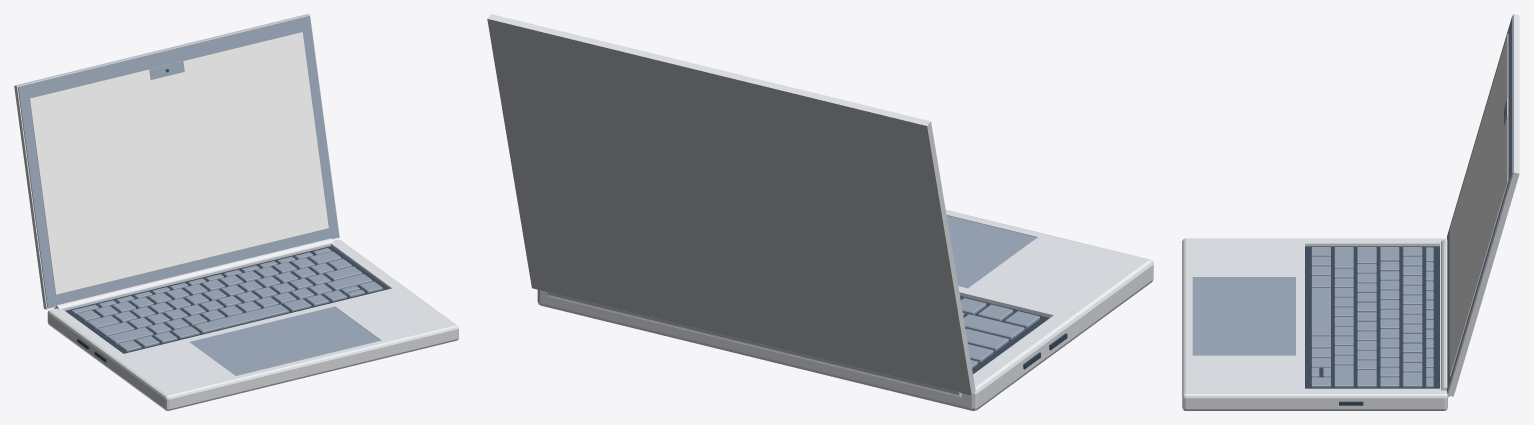
The model's file is computer.glb.
3 renders of one model, left to right at view 1: azimuth 30°, elevation 25°; view 2: azimuth 150°, elevation 25°; view 3: azimuth 270°, elevation 25°, orthographic. The views are drawn at different scales.
Visible parts, largest first — view 1: Screen, Base, Keycaps, Lid_Bezel, Trackpad, Well_Floor, Lid_Back, Hinge; view 2: Lid_Back, Base, Trackpad, Keycaps, Hinge, Well_Floor; view 3: Base, Keycaps, Screen, Trackpad, Well_Floor, Lid_Back, Lid_Bezel, Hinge.
Boxes of the visible parts, box(x1,y1,x2,y2) form: Screen: box(29, 32, 328, 294); Base: box(47, 239, 458, 410); Keycaps: box(72, 248, 382, 351); Lid_Bezel: box(18, 16, 339, 308); Trackpad: box(190, 306, 380, 375); Well_Floor: box(65, 246, 389, 353); Lid_Back: box(14, 14, 339, 309); Hinge: box(54, 238, 333, 309); Lid_Back: box(487, 14, 975, 395); Base: box(537, 210, 1153, 410); Trackpad: box(946, 215, 1036, 288); Keycaps: box(961, 298, 1039, 368); Hinge: box(547, 292, 961, 397); Well_Floor: box(960, 296, 1049, 373); Base: box(1182, 238, 1447, 410); Keycaps: box(1311, 247, 1433, 387); Screen: box(1449, 34, 1508, 376); Trackpad: box(1192, 277, 1295, 355); Well_Floor: box(1305, 246, 1439, 388); Lid_Back: box(1448, 14, 1519, 396); Lid_Bezel: box(1447, 15, 1513, 393); Hinge: box(1441, 239, 1449, 397).
Bounding box in the file's own units: 3.14 × 2.22 × 2.81.
